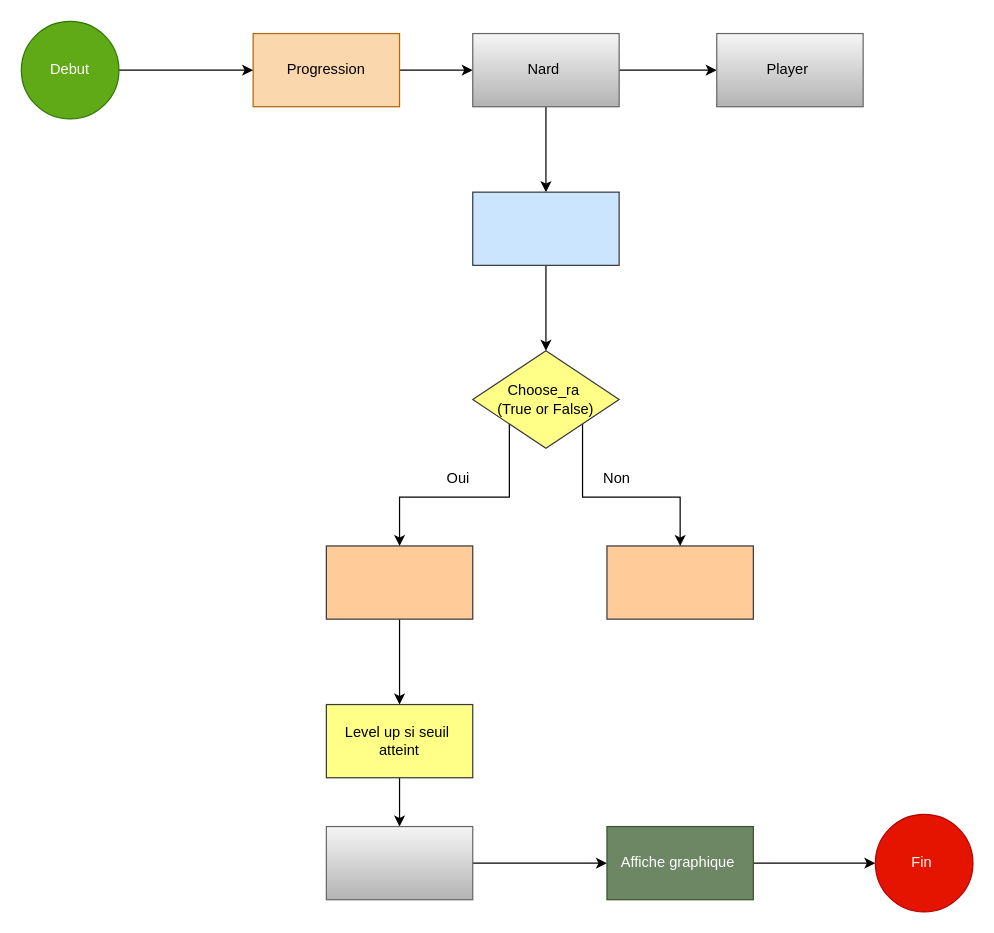
Some shapes in this 994 by 933 pixel diagram are drawn without their labels. The shapes that lost their labels are listed below. From the top down, each one's box as (x1, y1, x2, y2) in pixels, then its label:
(472, 191, 619, 265): Int. Action
(325, 545, 473, 619): Gagne XP
(606, 545, 753, 619): Pas de XP
(325, 825, 473, 900): Stats
